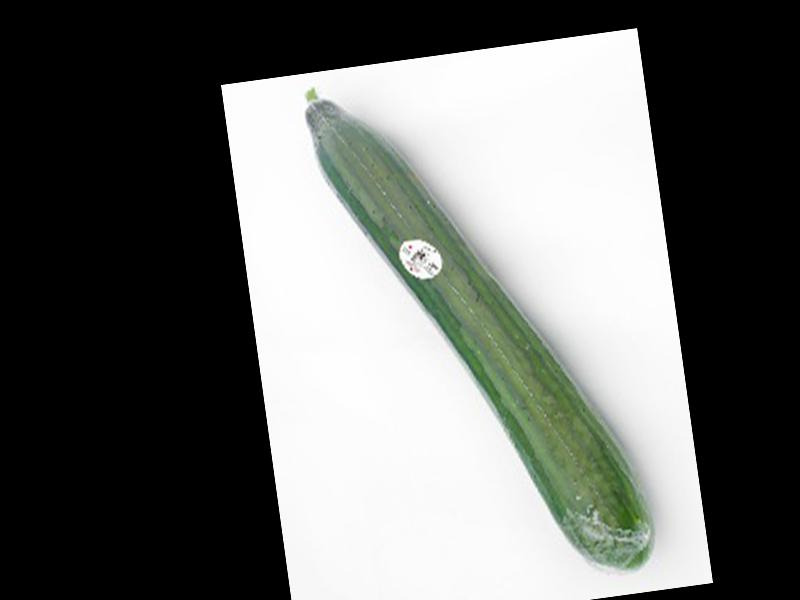Cucumber: (300, 52, 654, 600)
